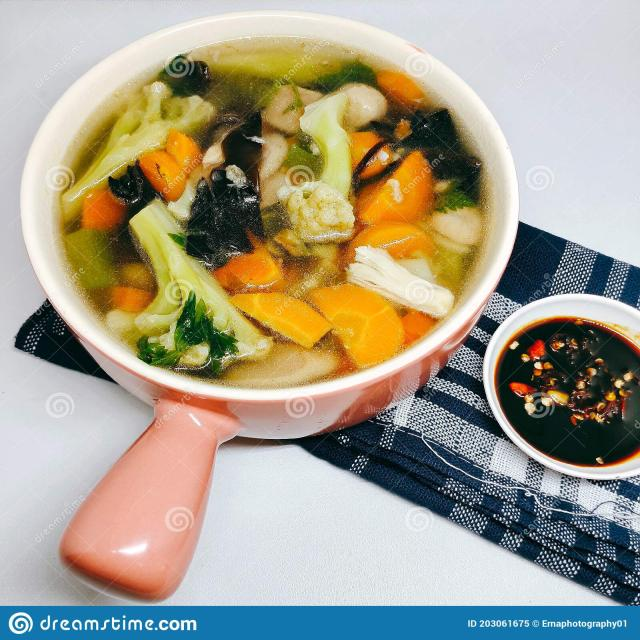Sayur Sop: (78, 51, 457, 384)
